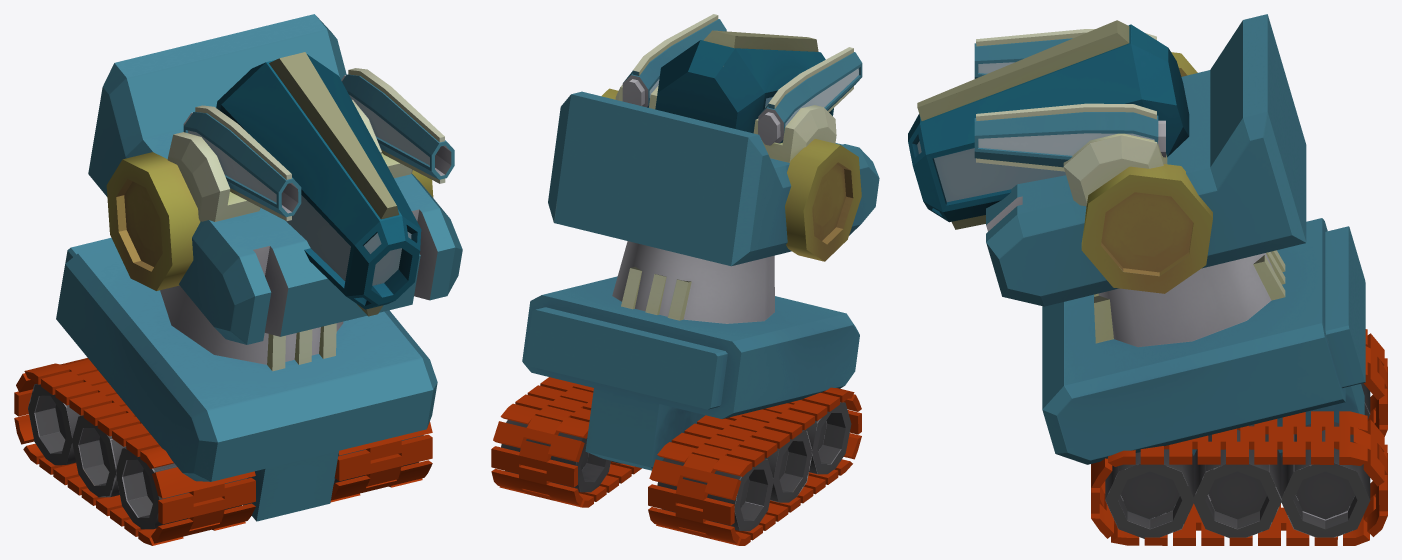
Rendered from player_move_1_upgrade2.obj.
The picture shows the model from 3 angles, left to right: view 1: azimuth 30°, elevation 25°; view 2: azimuth 150°, elevation 25°; view 3: azimuth 270°, elevation 25°; orthographic projection. The views are drawn at different scales.
Visible parts, largest first — view 1: Object004, Box038, Object012, Object011, Box042; view 2: Object004, Box038, Box042, Object011, Object012; view 3: Object004, Object011, Box042, Object012, Box038.
Boxes of the visible parts, x1,y1,x2,y2 form: Object004: (56,14,462,521); Box038: (14,357,255,545); Object012: (183,68,454,221); Object011: (28,383,423,529); Box042: (330,421,432,502); Object004: (522,30,879,470); Box038: (648,387,861,545); Box042: (491,377,641,507); Object011: (501,402,851,531); Object012: (622,14,862,145); Object004: (908,14,1365,464); Object011: (1105,383,1370,538); Box042: (1091,411,1387,545); Object012: (974,29,1165,171); Box038: (1363,329,1387,436).
Size of the model in its own units: 110 by 178 by 169.
4 materials, 2 textured.
